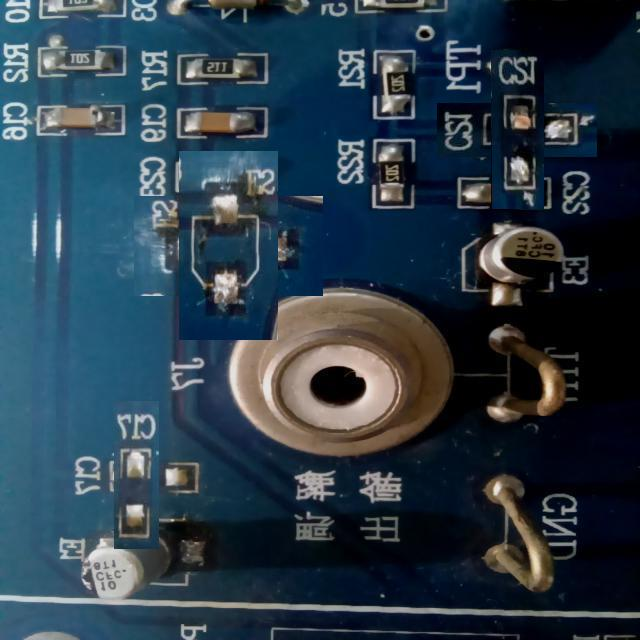miss_welding: (156, 174, 301, 318), (464, 77, 571, 184), (88, 426, 185, 524)
